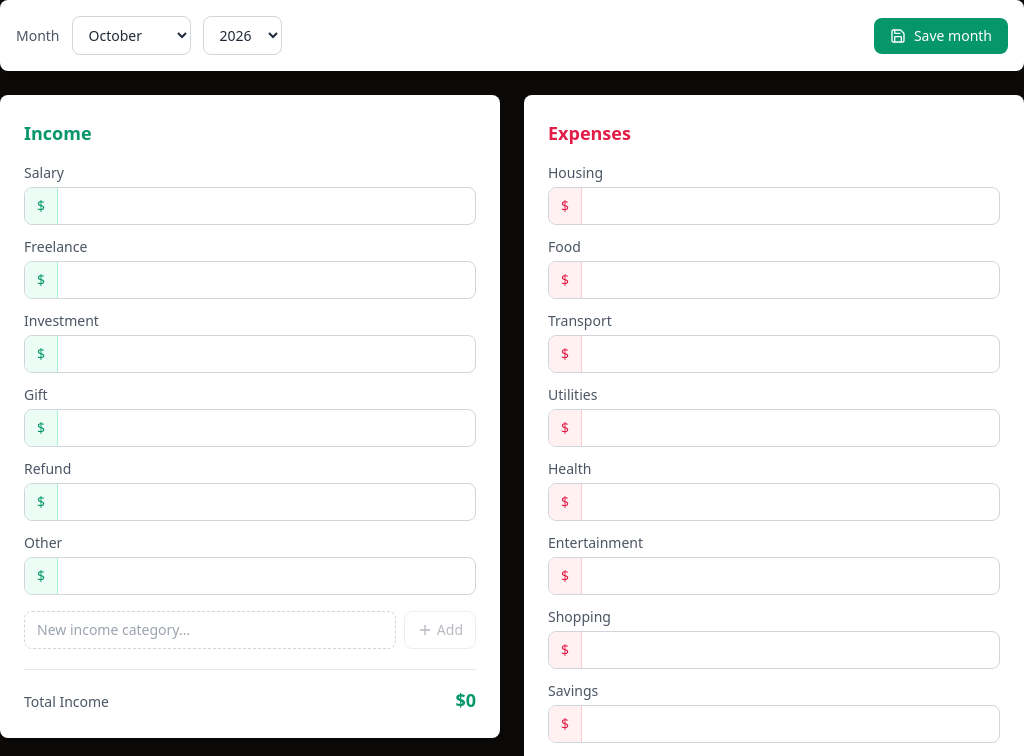
Test case: MonthlyEntryPanel › saves only non-empty cells and shows the saved state
This screenshot has width=1024, height=756.
Type "3000" into the field labelled "Salary". click: (266, 206)
box: [58,188,475,224]
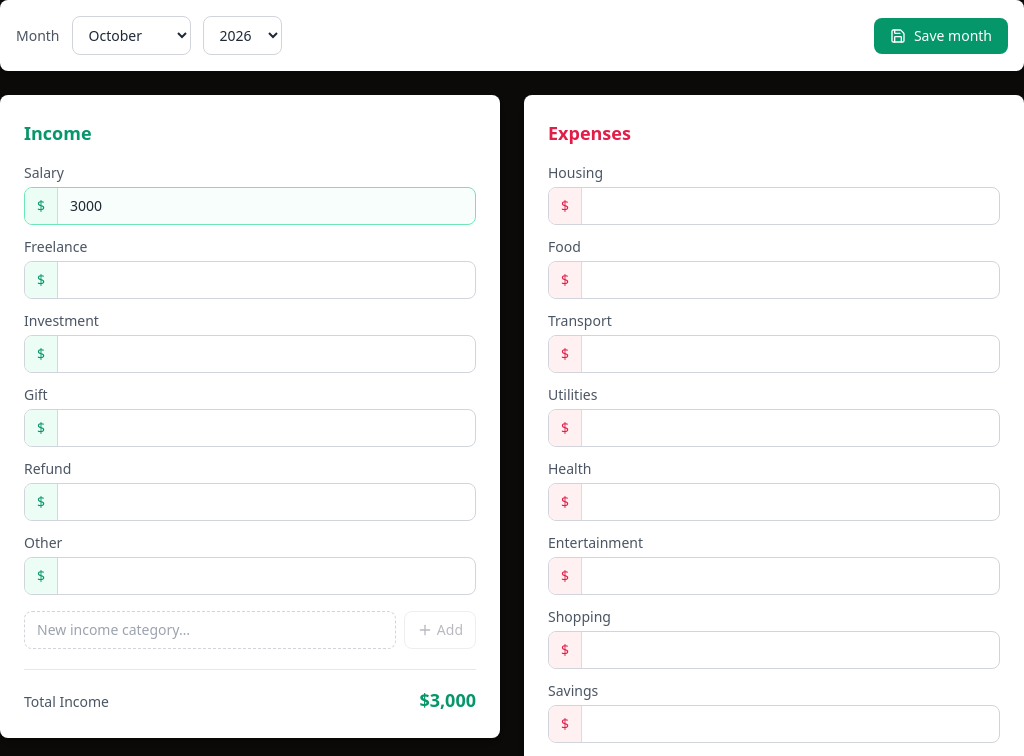
Type "400" into the field labelled "Food". click: (790, 280)
box: [582,262,999,298]
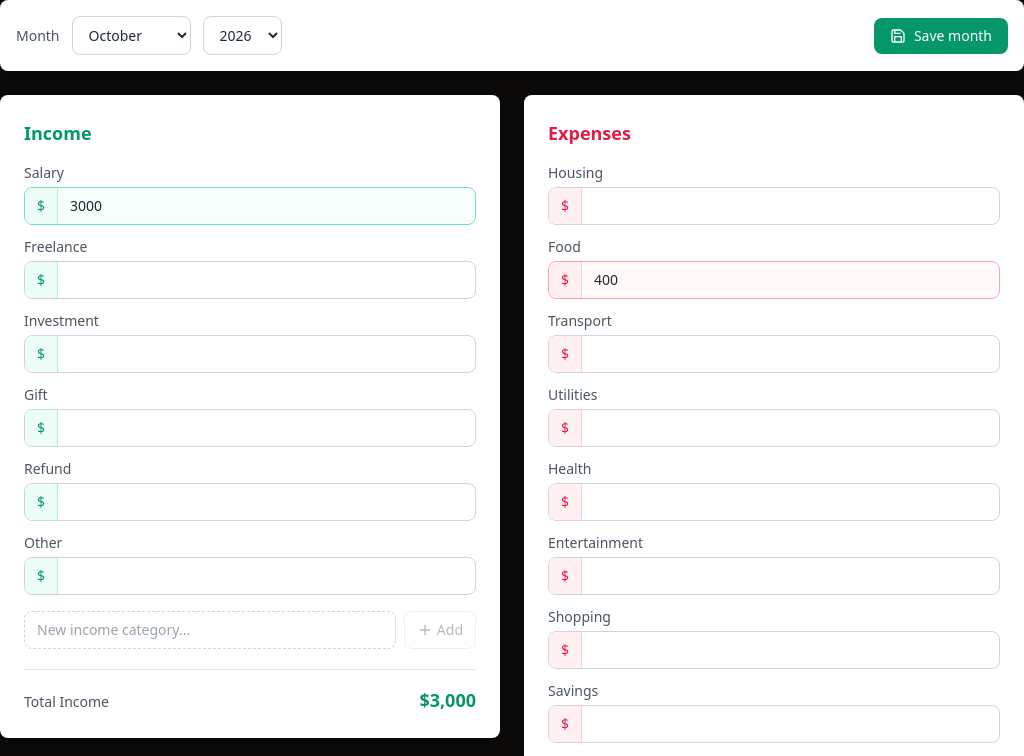
Click the button "Save month". click: (941, 36)
box: [874,18,1008,54]
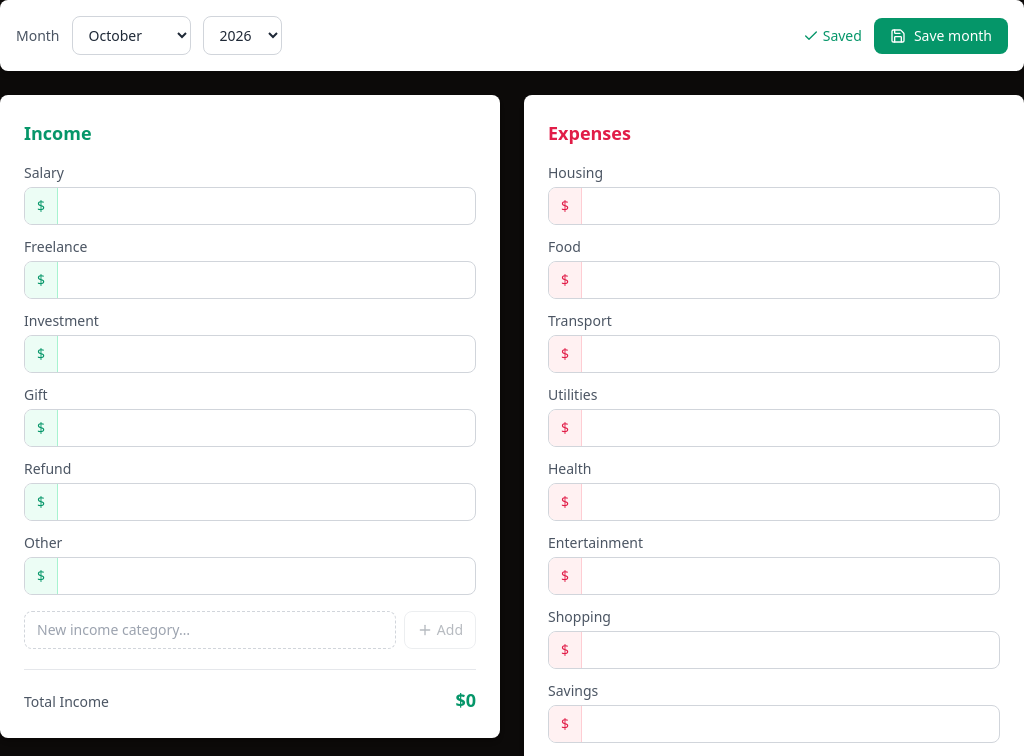
Now the text "Saved" is shown, box [803,26,862,46]
